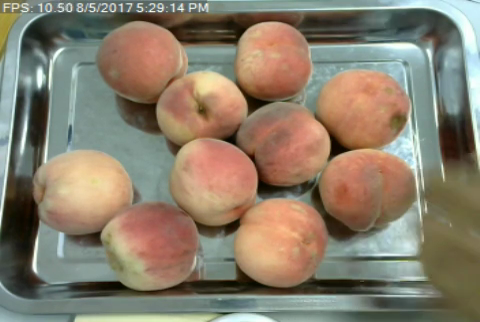Peach: (32, 148, 133, 236), (101, 202, 199, 289), (319, 147, 415, 235), (234, 197, 325, 287), (168, 138, 258, 224), (96, 20, 188, 104), (318, 66, 410, 149), (154, 68, 250, 146), (239, 102, 328, 185), (232, 19, 313, 100)
